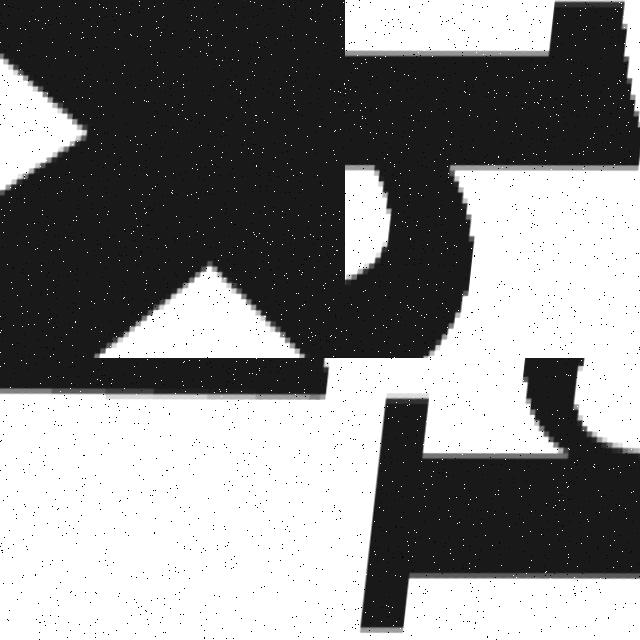1: (0, 358, 345, 532)
B: (345, 9, 640, 358)
Q: (358, 358, 640, 640)
X: (0, 0, 345, 358)
